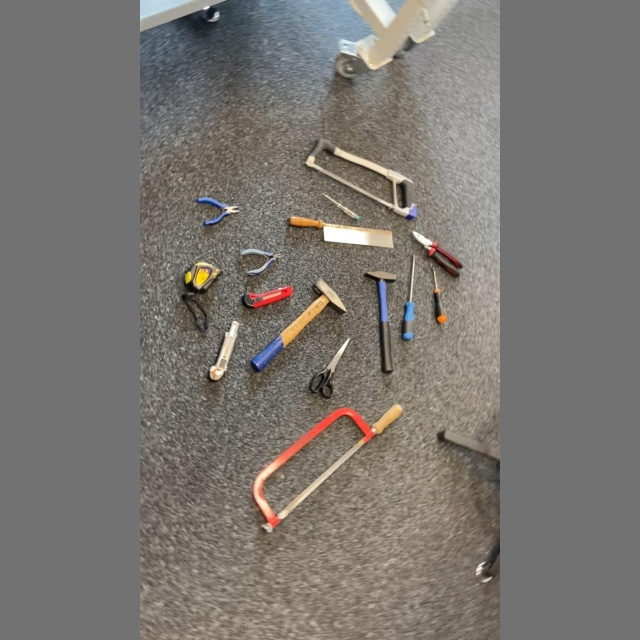scissor: (307, 334, 354, 402)
screwdriver: (398, 251, 418, 344), (319, 190, 364, 223), (429, 266, 450, 328)
